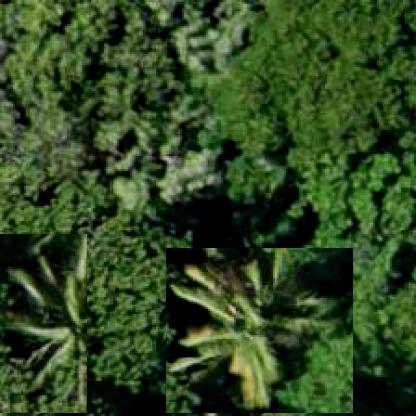coconut tree: (167, 248, 354, 414), (0, 234, 88, 414)
